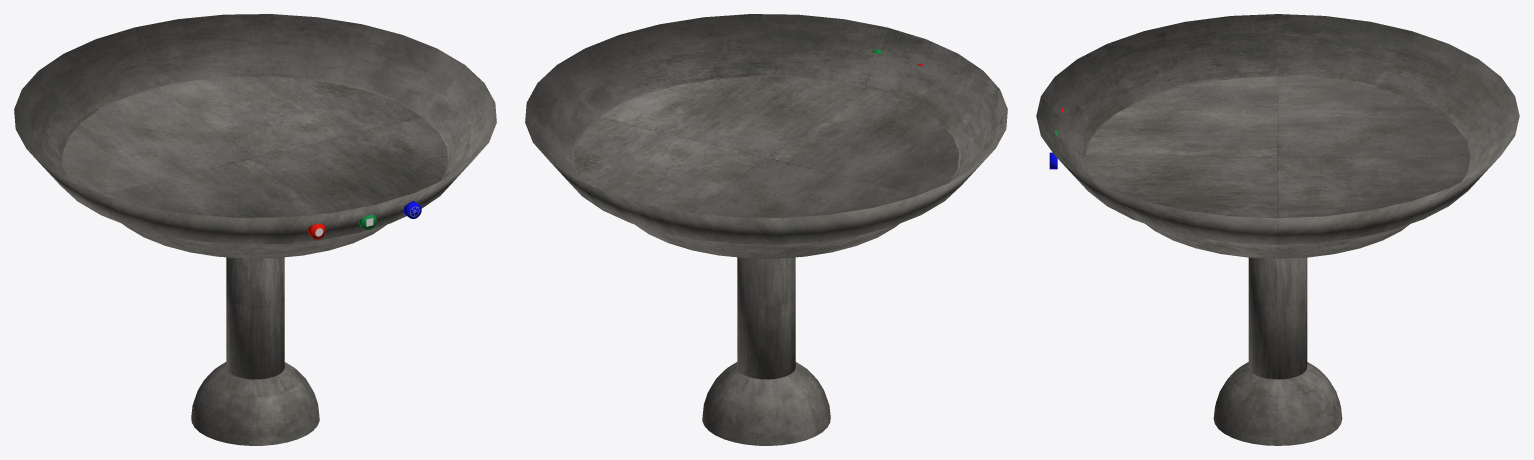
The model's file is fountain.glb.
3 views of the same model, side by side, from view 1: azimuth 30°, elevation 25°; view 2: azimuth 150°, elevation 25°; view 3: azimuth 270°, elevation 25° (orthographic).
Parts seen in each view (by area): view 1: fountain; view 2: fountain; view 3: fountain.
Boxes of the visible parts, <box> form: fountain: <box>14,14,496,445</box>; fountain: <box>525,14,1007,445</box>; fountain: <box>1036,14,1519,445</box>.
Size of the model in its own units: 1.57 by 1.08 by 1.57.
Materials: 5 (1 with a texture image).
